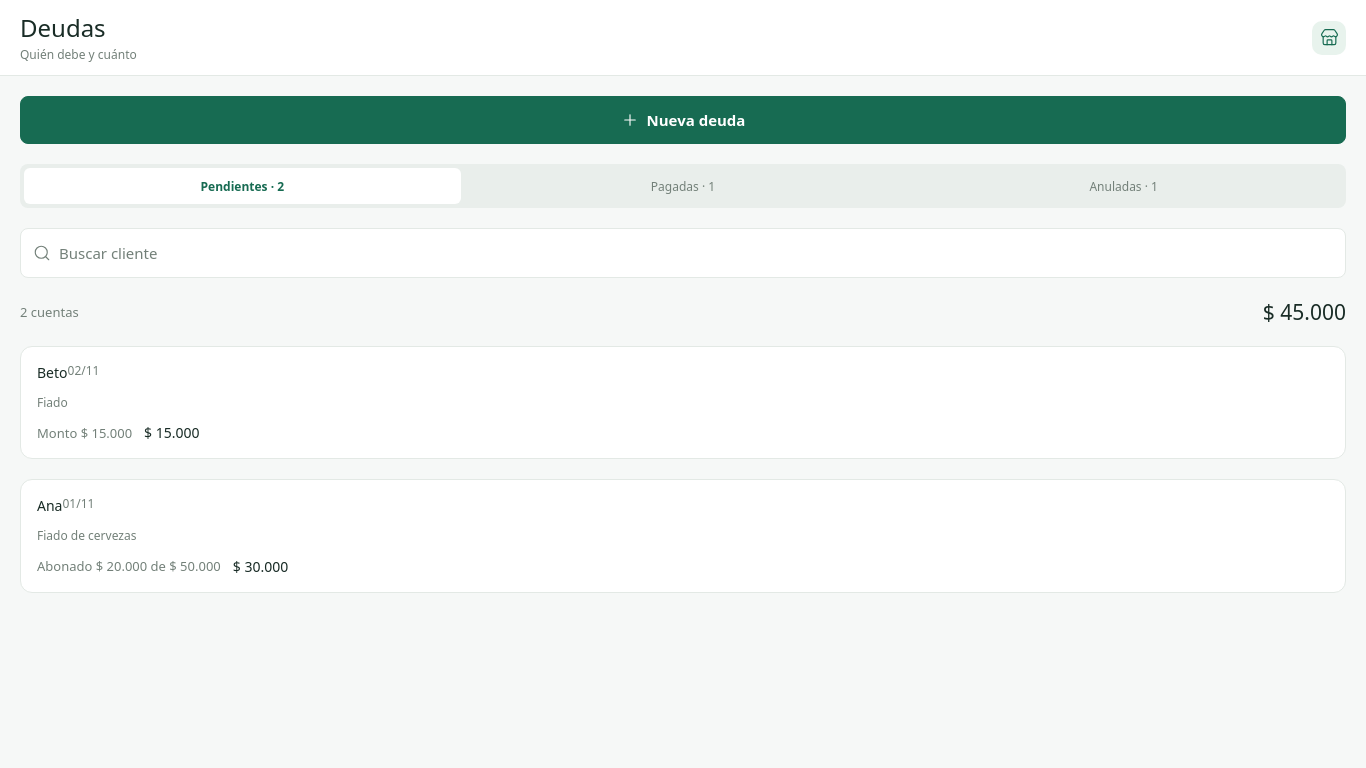
it: Deudas › cambia de pestaña a pagadas y anuladas
The width and height of the screenshot is (1366, 768).
Check: the text "Beto" is shown, box [37,363,68,383]
Step 1. Click the radio button labelled "Pagadas · 1" → [683, 186], box [465,168,901,204]
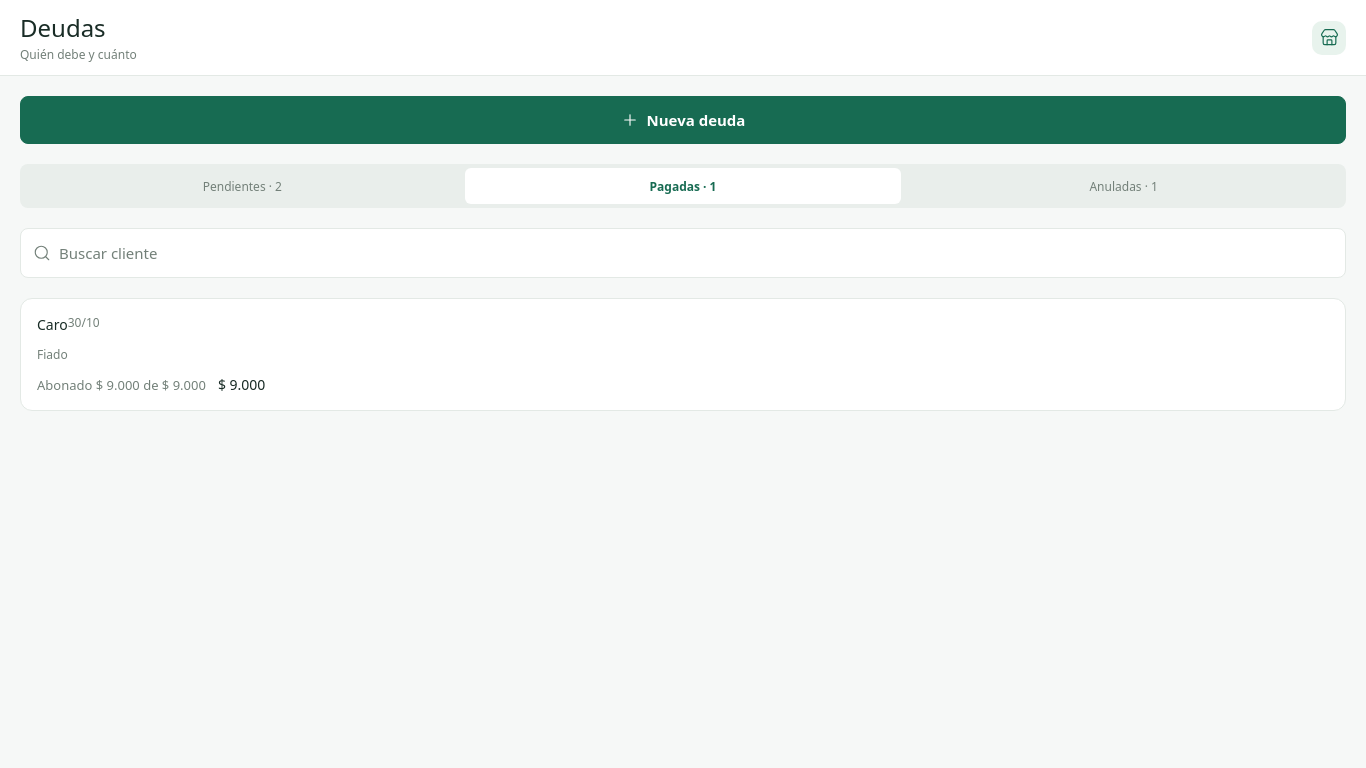
Check: the text "Caro" is shown, box [37,315,68,335]
Step 2. Click the radio button labelled "Anuladas · 1" → [1124, 186], box [905,168,1342,204]
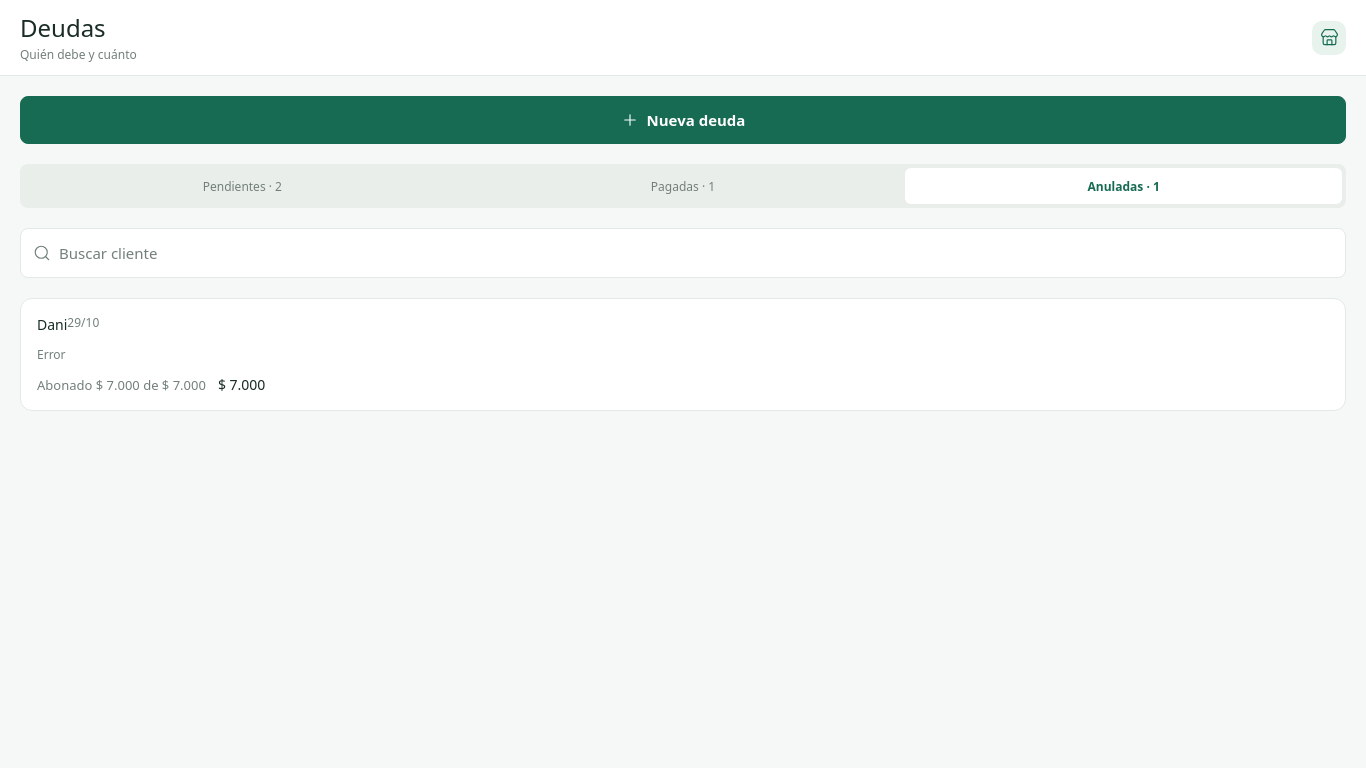
Check: the text "Dani" is shown, box [37,315,67,335]
